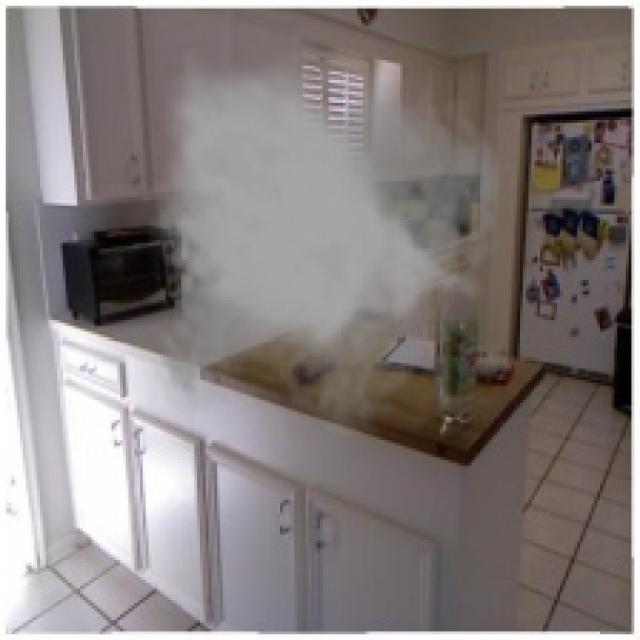Smoke: (148, 48, 506, 440)
